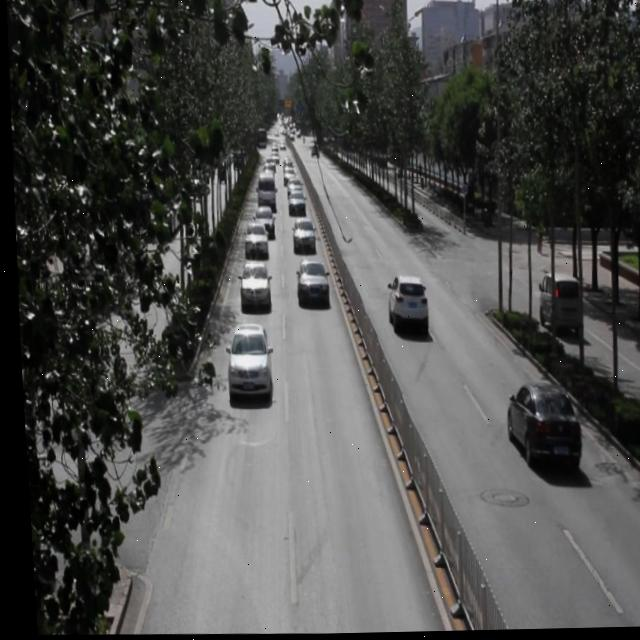car: (497, 381, 575, 479), (220, 322, 268, 399), (380, 273, 423, 337), (235, 260, 268, 315), (291, 260, 324, 308), (287, 218, 313, 256), (240, 222, 266, 258), (248, 206, 272, 242)
truck: (529, 271, 575, 337)
